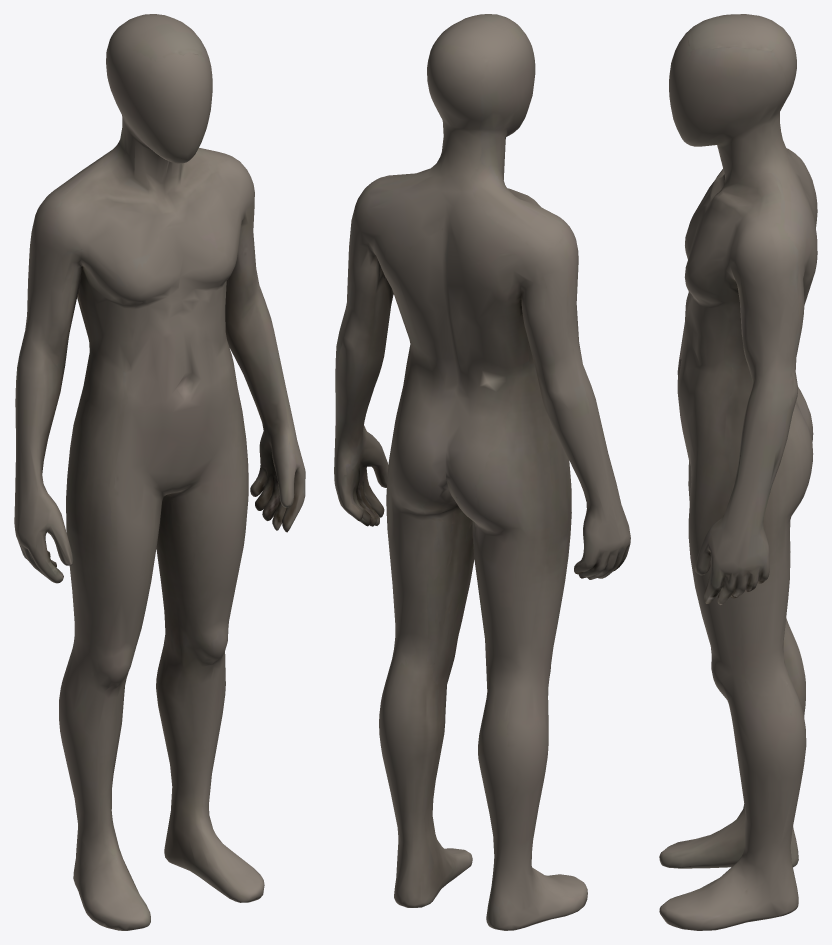
File: human.glb
3 renders of one model, left to right at view 1: azimuth 30°, elevation 25°; view 2: azimuth 150°, elevation 25°; view 3: azimuth 270°, elevation 25°, orthographic.
Parts seen in each view (by area): view 1: Mesh_0; view 2: Mesh_0; view 3: Mesh_0.
Part boxes in pixels (<box>): Mesh_0: <box>14,14,305,930</box>; Mesh_0: <box>334,14,630,930</box>; Mesh_0: <box>659,14,817,930</box>.
Size of the model in its own units: 0.3999 by 1.18 by 0.1932.
1 material, 1 textured.
